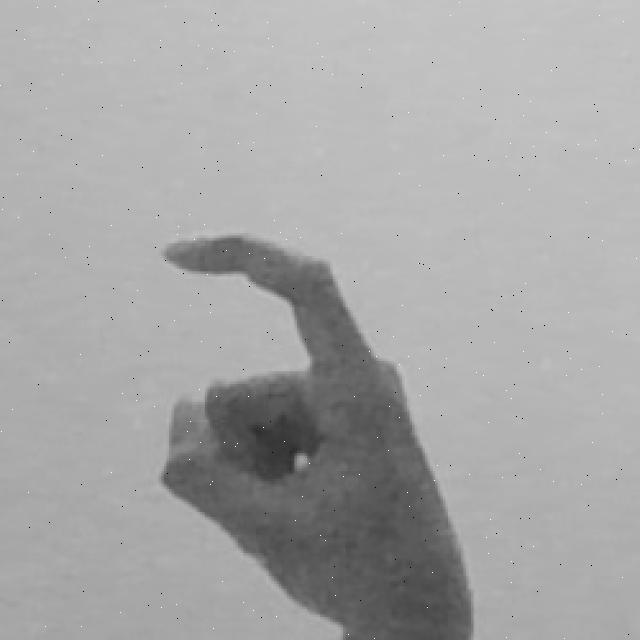X: (151, 222, 484, 640)
